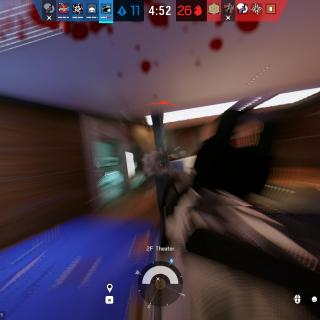Character: (168, 147, 188, 160)
